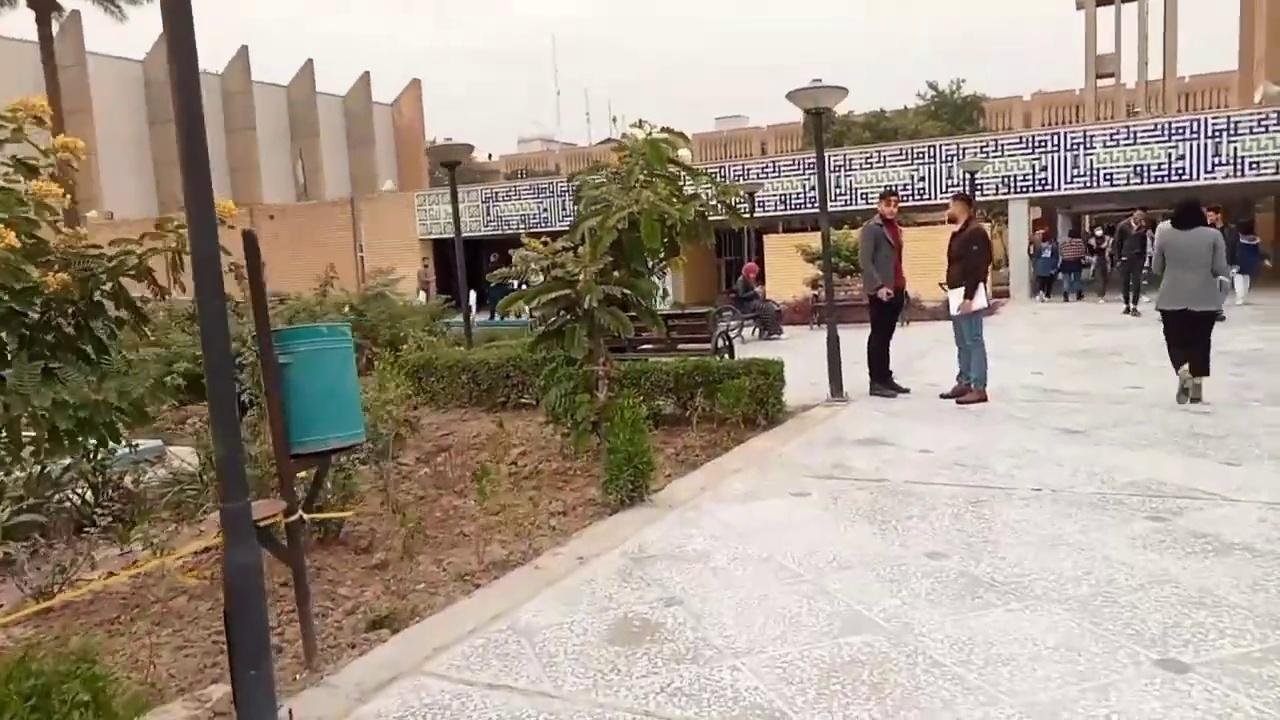person: (1150, 196, 1230, 403), (939, 193, 993, 403), (858, 189, 910, 397), (1205, 203, 1239, 321), (734, 261, 785, 339), (1112, 206, 1146, 318), (1026, 226, 1058, 298), (1085, 225, 1114, 299), (1059, 230, 1087, 305), (484, 252, 510, 320), (415, 256, 435, 304)
tree: (0, 91, 195, 597), (484, 117, 759, 454), (0, 0, 149, 226), (823, 75, 990, 147), (912, 75, 989, 136), (793, 224, 862, 290)
